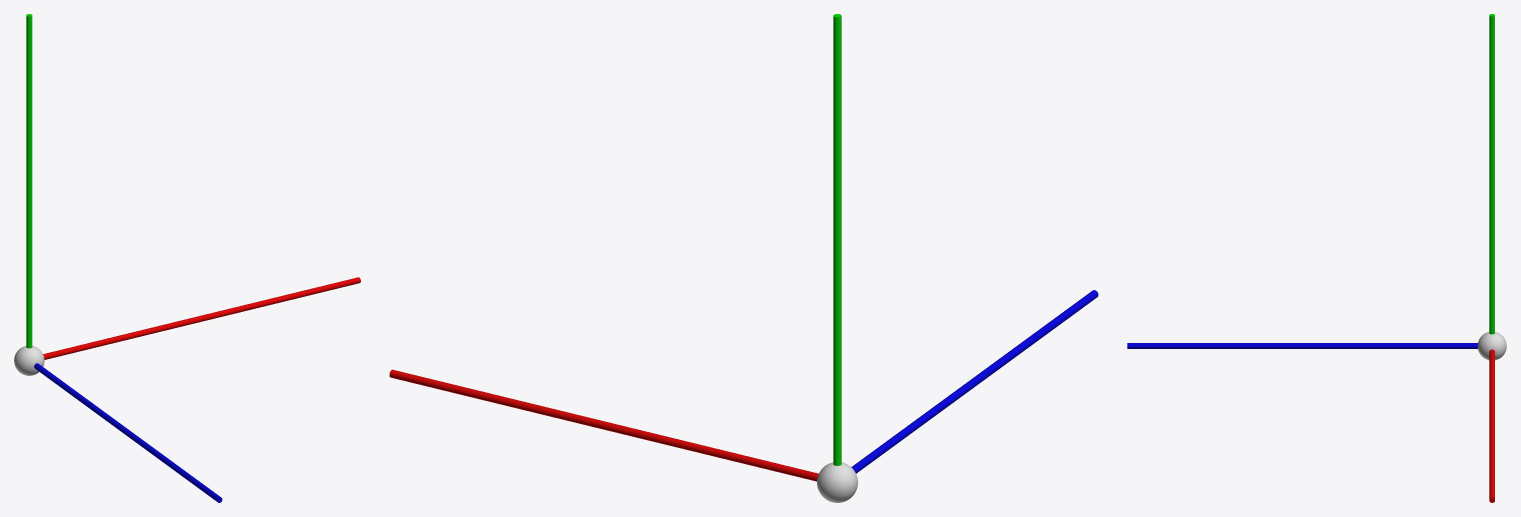
File: coordinate_axes_debug_scene.glb
3 views of the same model, side by side, from view 1: azimuth 30°, elevation 25°; view 2: azimuth 150°, elevation 25°; view 3: azimuth 270°, elevation 25° (orthographic). The views are drawn at different scales.
Parts seen in each view (by area): view 1: geometry_0; view 2: geometry_0; view 3: geometry_0.
Boxes of the visible parts, x1,y1,x2,y2 form: geometry_0: (14,14,360,502); geometry_0: (389,14,1098,502); geometry_0: (1127,14,1506,502).
Size of the model in its own units: 26 by 26 by 26.
